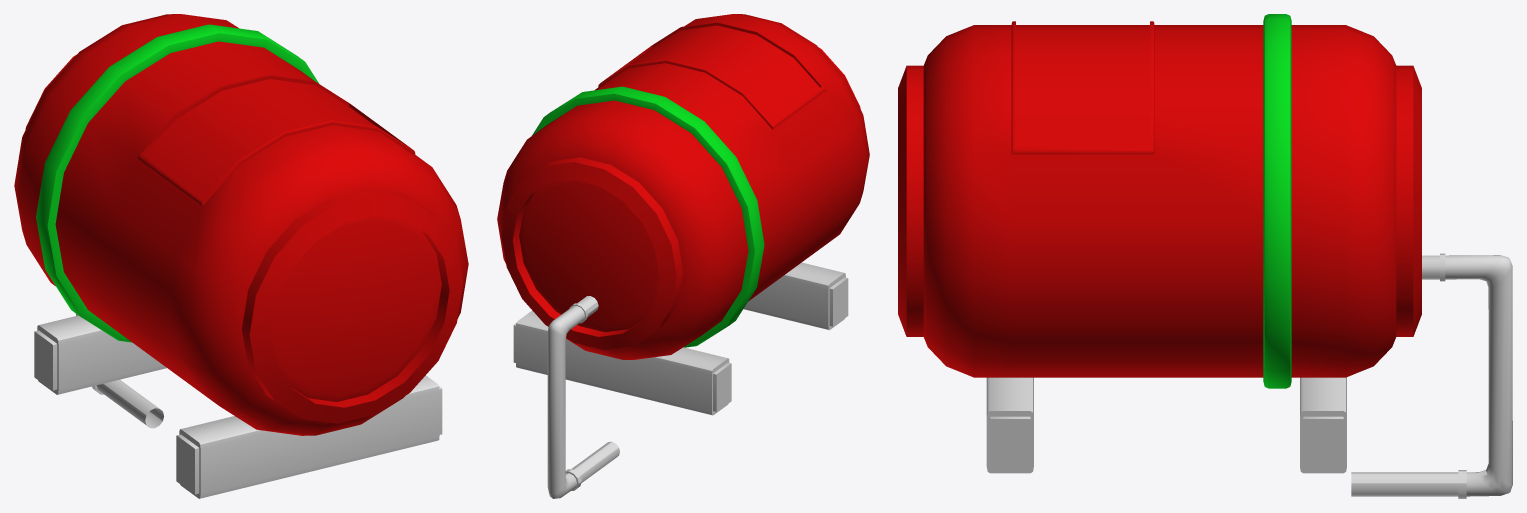
Rendered from SolarAsset12_WaterBarrel.fbx.
3 views of the same model, side by side, from view 1: azimuth 30°, elevation 25°; view 2: azimuth 150°, elevation 25°; view 3: azimuth 270°, elevation 25° (orthographic). The views are drawn at different scales.
Visible parts, largest first — view 1: Cylinder018, Box027, Box028, Line001; view 2: Cylinder018, Box028, Line001, Box027; view 3: Cylinder018, Line001, Box027, Box028.
Boxes of the visible parts, x1,y1,x2,y2 form: Cylinder018: (14,14,468,435); Box027: (176,375,442,498); Box028: (34,315,166,394); Line001: (76,314,163,428); Cylinder018: (497,14,869,359); Box028: (513,310,731,415); Line001: (547,296,619,498); Box027: (743,262,848,330); Cylinder018: (898,14,1421,388); Line001: (1351,253,1512,498); Box027: (986,377,1033,473); Box028: (1300,377,1346,473).
Size of the model in its own units: 74.93 by 102 by 123.
